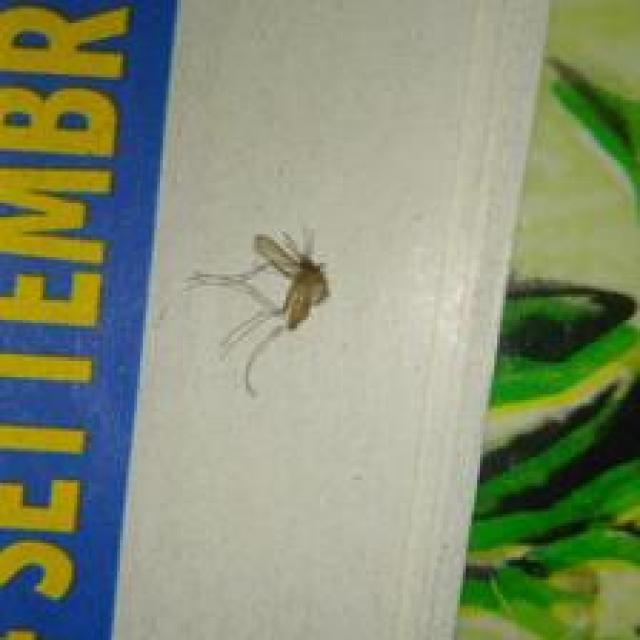Culex: (183, 226, 331, 397)
